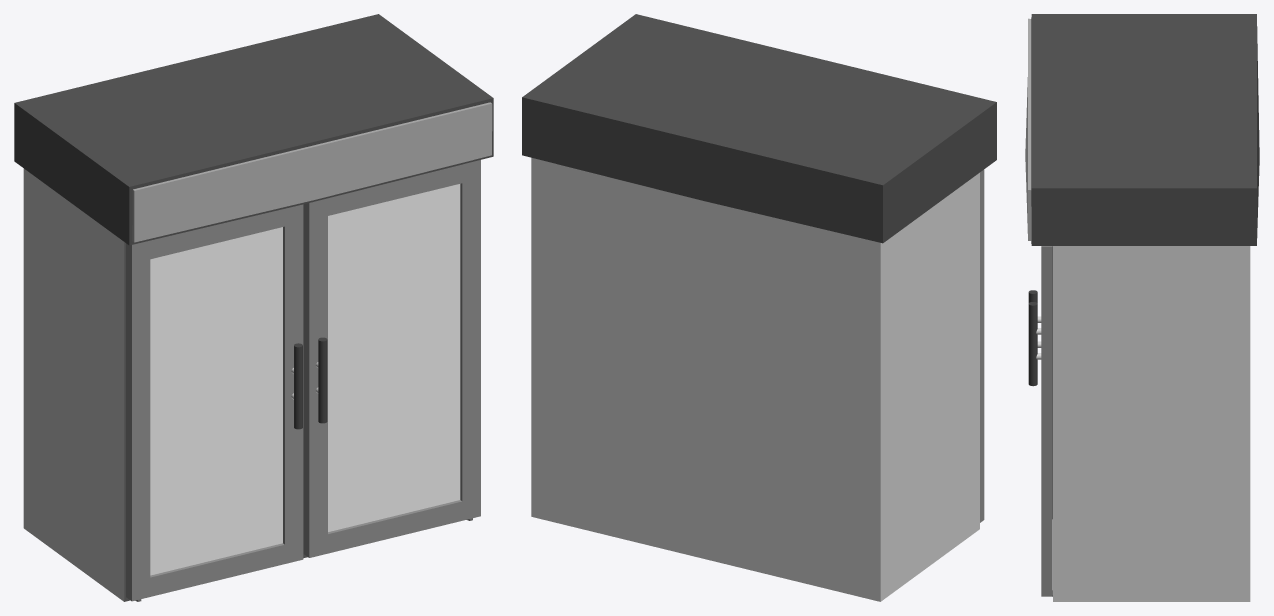
The model's file is Large Double Doors Freezer.fbx.
3 renders of one model, left to right at view 1: azimuth 30°, elevation 25°; view 2: azimuth 150°, elevation 25°; view 3: azimuth 270°, elevation 25°, orthographic.
Visible parts, largest first — view 1: Large Double Doors Fridge/Freezer; view 2: Large Double Doors Fridge/Freezer; view 3: Large Double Doors Fridge/Freezer.
Part boxes in pixels (bbox=[...]): Large Double Doors Fridge/Freezer: bbox=[14, 14, 493, 601]; Large Double Doors Fridge/Freezer: bbox=[522, 14, 996, 601]; Large Double Doors Fridge/Freezer: bbox=[1025, 14, 1259, 601].
Bounding box in the file's own units: 173 × 194 × 98.14.
Materials: 3 (2 with a texture image).
